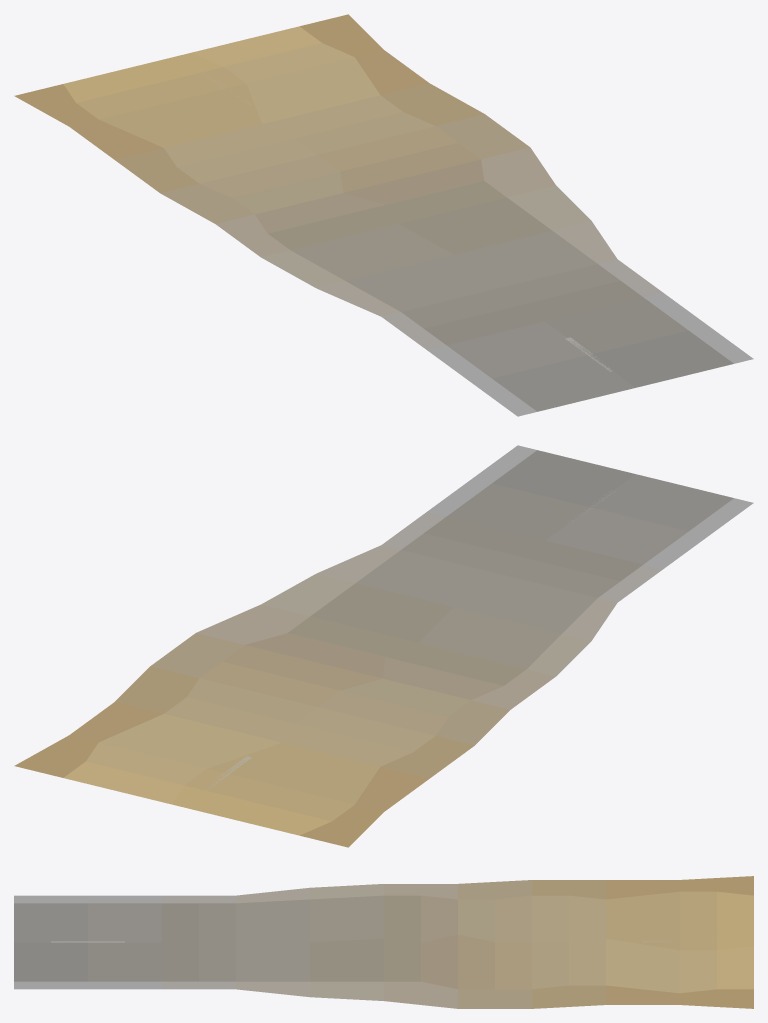
File: mixpd.obj
3 renders of one model, top to bottom at view 1: azimuth 30°, elevation 25°; view 2: azimuth 150°, elevation 25°; view 3: azimuth 270°, elevation 25°, orthographic. The views are drawn at different scales.
Bounding box in the file's own units: 2380 × 0 × 5600.
